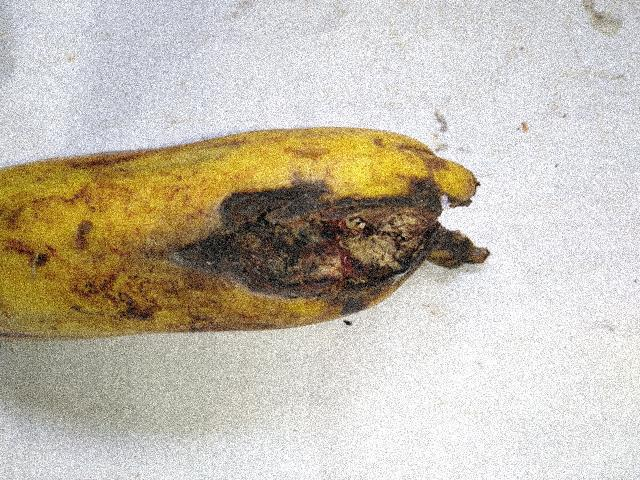ripe: (0, 125, 198, 356)
rotten: (159, 155, 496, 334)
